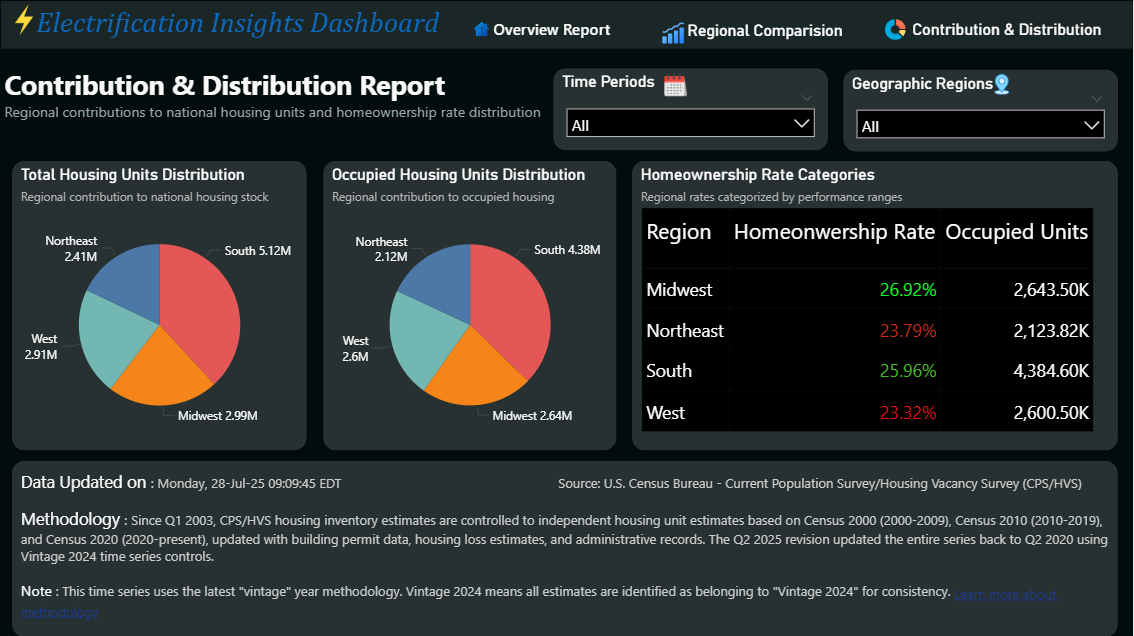

The page's visual inventory and layout, read from the dashboard file:
{"tool":"powerbi","page":{"name":"Contribution & Distribution","canvas":[1280,720],"ordinal":2},"visuals":[{"type":"textbox","box":[0,0,1280,56.2],"z":0},{"type":"image","box":[0,0,55,45],"z":1000},{"type":"actionButton","box":[511,8.5,224.4,48],"z":2000},{"type":"textbox","box":[0,70,1280,110],"z":3000},{"type":"slicer","title":"           Time Periods","fields":{"Values":["Time_Periods.per_name"]},"box":[623.9,76.2,312,94.6],"z":4000},{"type":"slicer","title":"Geographic Regions","fields":{"Values":["Geo_Levels.geo_desc"]},"box":[951.4,77.6,312,94.6],"z":5000},{"type":"pieChart","title":"Total Housing Units Distribution","fields":{"Category":["Geo_Levels.geo_desc"],"Y":["Whole_Data.Regional_Total_Units"]},"box":[12.7,180.7,334.5,328.9],"z":6000},{"type":"pieChart","title":"Occupied Housing Units Distribution","fields":{"Category":["Geo_Levels.geo_desc"],"Y":["Whole_Data.Regional_Contribution_Occupied"]},"box":[364.2,180.7,333.1,328.9],"z":7000},{"type":"tableEx","title":"Homeownership Rate Categories","fields":{"Values":["Geo_Levels.geo_desc","Whole_Data.Regional_HOR","Whole_Data.Regional_Contribution_Occupied"]},"box":[712.8,180.7,550.5,328.9],"z":8000},{"type":"textbox","box":[12.7,519.5,1250.6,200.4],"z":9000},{"type":"image","box":[1108.1,77.6,46.6,35.3],"z":10000},{"type":"image","box":[745.3,77.6,35.3,36.7],"z":11000},{"type":"actionButton","title":"Regional Comparision","box":[742.4,24.7,242.9,30.2],"z":12000},{"type":"actionButton","title":"Contribution & Distribution","box":[993.7,22.6,286.5,32.5],"z":13000},{"type":"image","box":[530.7,8.5,26.8,49.4],"z":14000},{"type":"image","box":[993.5,16.5,34.3,32.9],"z":15000},{"type":"image","box":[742.4,19.2,35.7,35.7],"z":16000}]}

Visuals, with their boxes in screenshot pixels (x1, y1, x2, y2), scaled from the page's 1280x720 canvas onto the 1134x636 screenshot:
textbox: bbox=(0, 0, 1133, 50)
image: bbox=(0, 0, 49, 40)
actionButton: bbox=(453, 8, 652, 50)
textbox: bbox=(0, 62, 1133, 159)
"           Time Periods" slicer: bbox=(553, 67, 829, 151)
"Geographic Regions" slicer: bbox=(843, 69, 1119, 152)
"Total Housing Units Distribution" pieChart: bbox=(11, 160, 308, 450)
"Occupied Housing Units Distribution" pieChart: bbox=(323, 160, 618, 450)
"Homeownership Rate Categories" tableEx: bbox=(631, 160, 1119, 450)
textbox: bbox=(11, 459, 1119, 635)
image: bbox=(982, 69, 1023, 100)
image: bbox=(660, 69, 692, 101)
"Regional Comparision" actionButton: bbox=(658, 22, 873, 48)
"Contribution & Distribution" actionButton: bbox=(880, 20, 1133, 49)
image: bbox=(470, 8, 494, 51)
image: bbox=(880, 15, 911, 44)
image: bbox=(658, 17, 689, 48)
